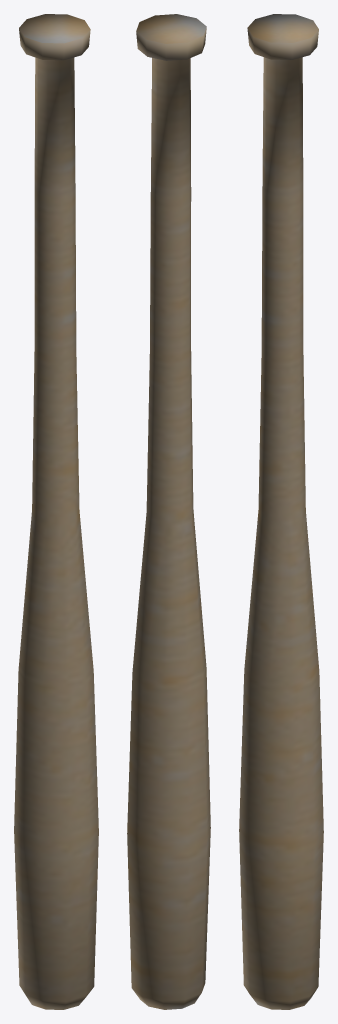
The model's file is batte_M.dae.
3 views of the same model, side by side, from view 1: azimuth 90°, elevation 25°; view 2: azimuth 210°, elevation 25°; view 3: azimuth 270°, elevation 25° (orthographic).
Parts seen in each view (by area): view 1: Cylindre01; view 2: Cylindre01; view 3: Cylindre01.
Part boxes in pixels (<box>): Cylindre01: <box>14,14,98,1009</box>; Cylindre01: <box>127,14,210,1009</box>; Cylindre01: <box>239,14,323,1009</box>.
Size of the model in its own units: 0.8232 by 0.8531 by 10.76.
